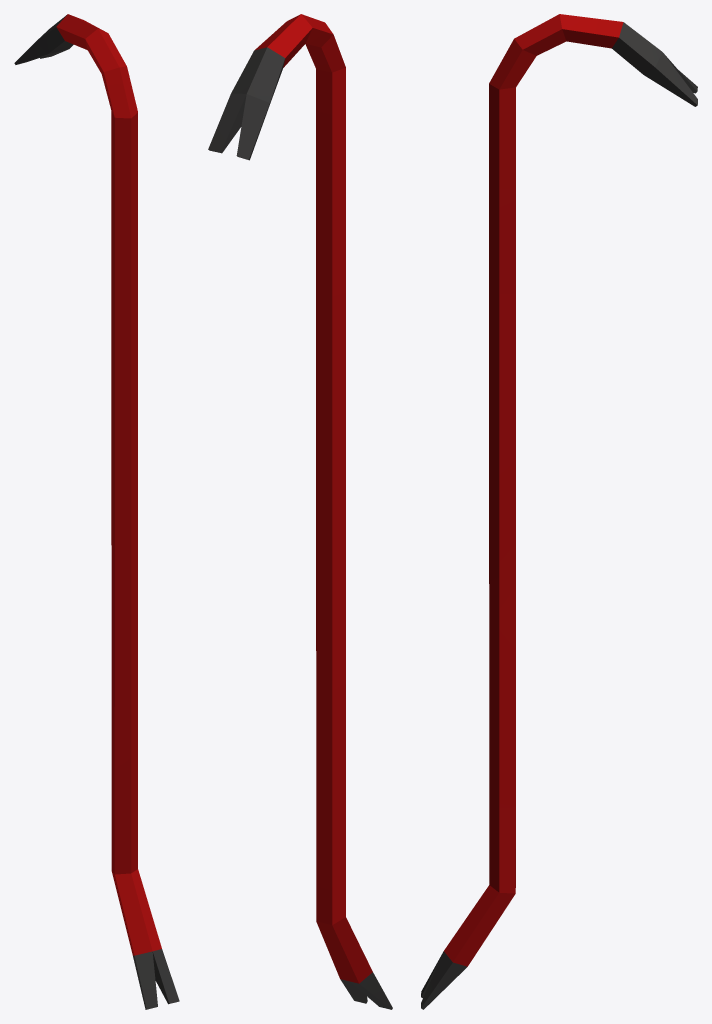
Rendered from Crowbar.fbx.
The picture shows the model from 3 angles, left to right: view 1: azimuth 30°, elevation 25°; view 2: azimuth 150°, elevation 25°; view 3: azimuth 270°, elevation 25°; orthographic projection. The views are drawn at different scales.
Visible parts, largest first — view 1: Crowbar; view 2: Crowbar; view 3: Crowbar.
Boxes of the visible parts, x1,y1,x2,y2 form: Crowbar: [14, 14, 179, 1009]; Crowbar: [208, 14, 392, 1009]; Crowbar: [421, 14, 697, 1009].
Bounding box in the file's own units: 2.88 × 70.28 × 17.87.
Materials: 1 (1 with a texture image).
